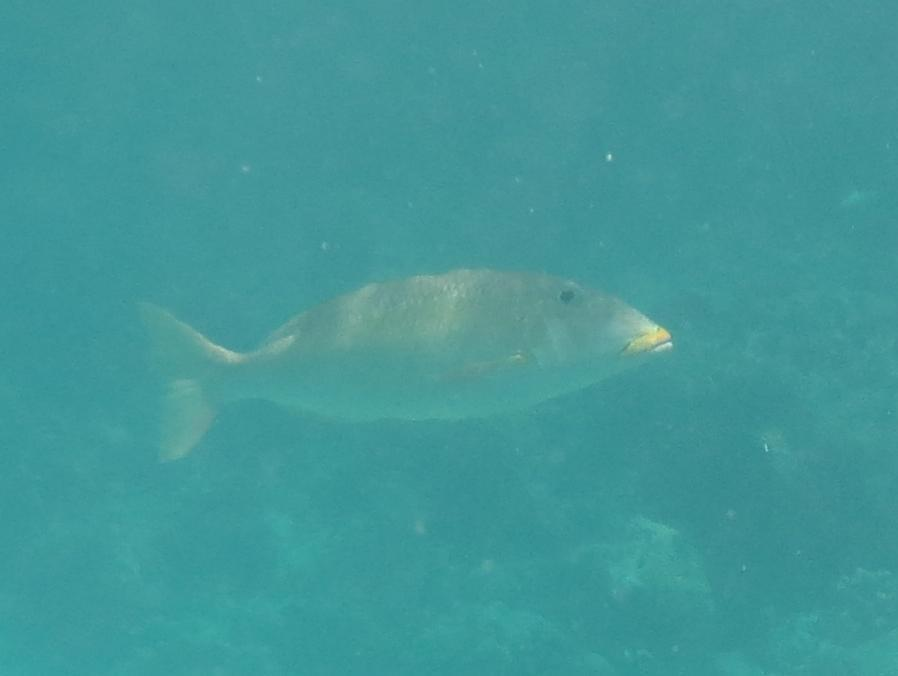Fish: (116, 255, 683, 482)
